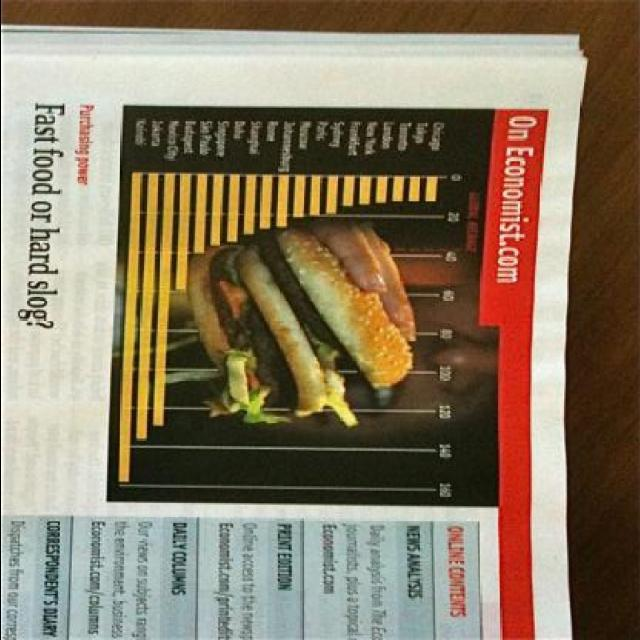Hamburger: (183, 229, 411, 423)
